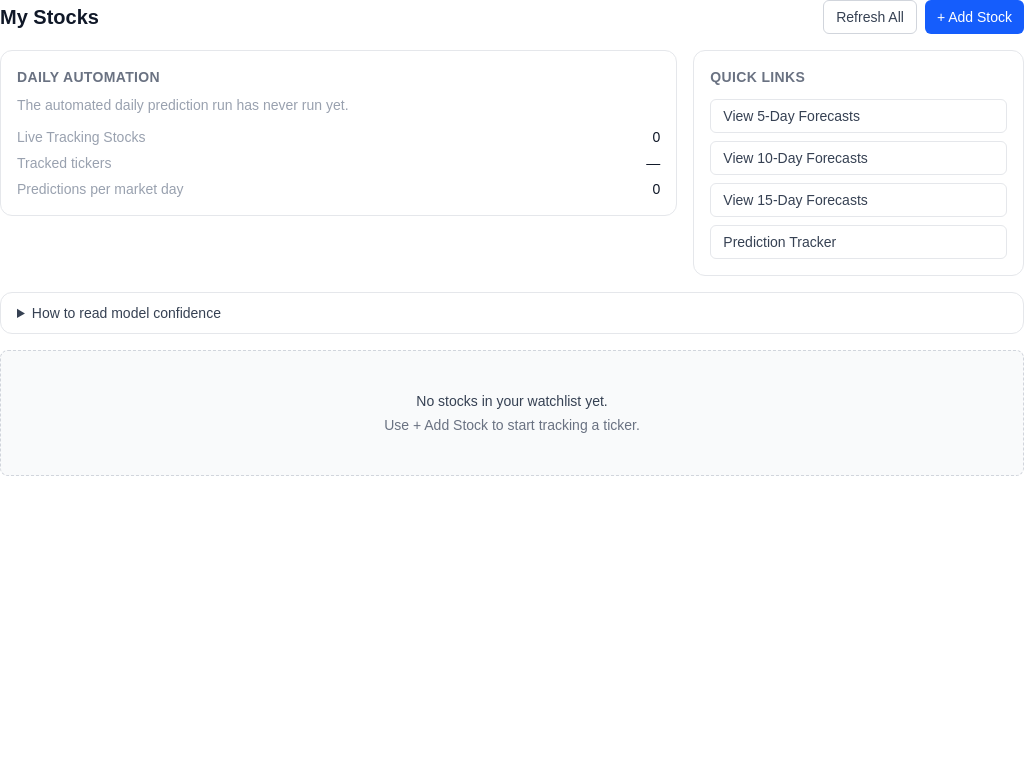
DashboardPage › shows a clear error and does not add the stock when the ticker is invalid
The image size is (1024, 768).
Expected: the element with test id "empty-state" is shown, [0,350,1023,476]
Click the button "+ Add Stock" at (974, 17), box [925,0,1023,34]
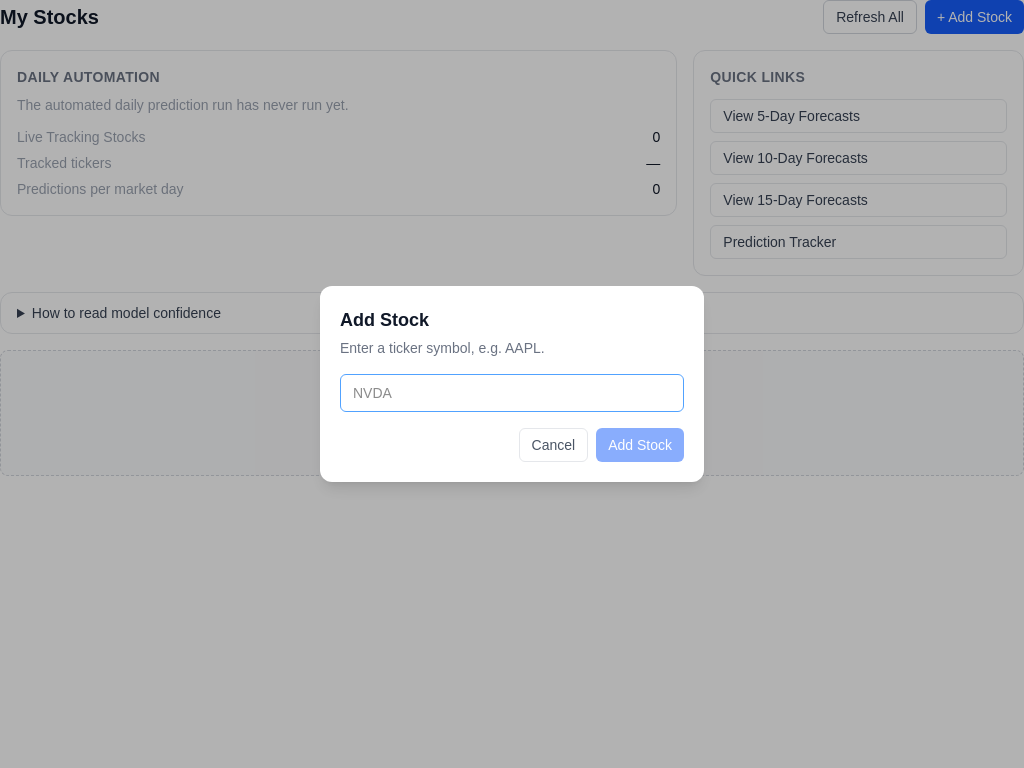
Type "zzzzzz" into the field named "Ticker symbol" at (512, 393), box [340,374,684,412]
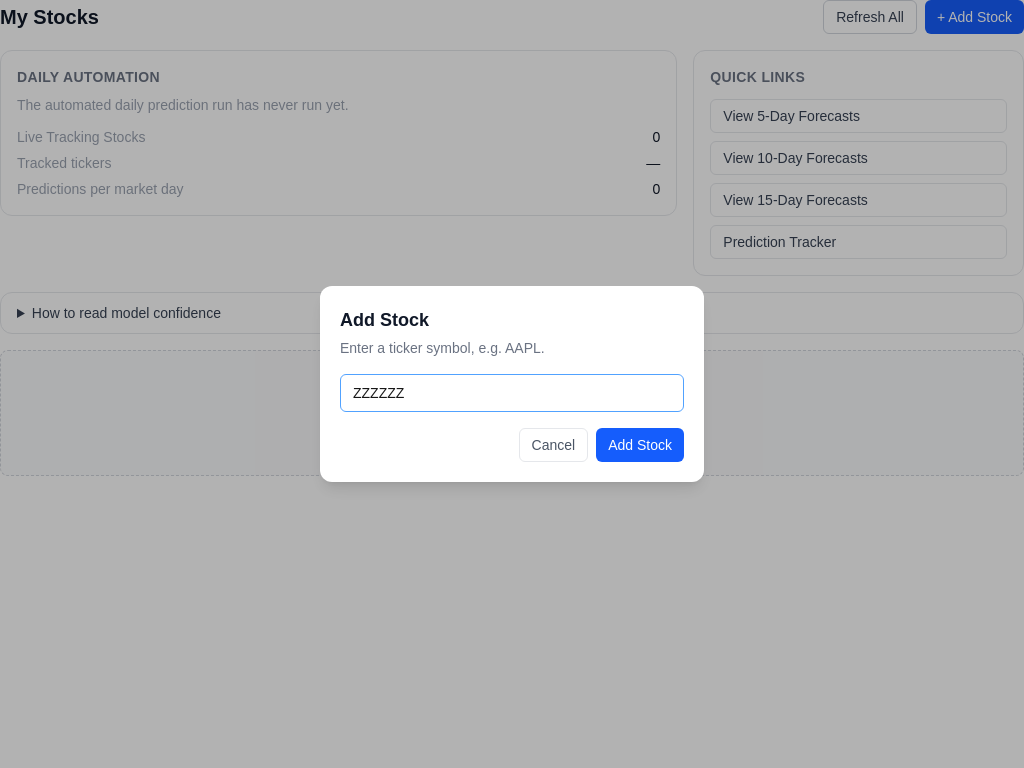
Click the button "Add Stock" at (640, 445), box [596,428,684,462]
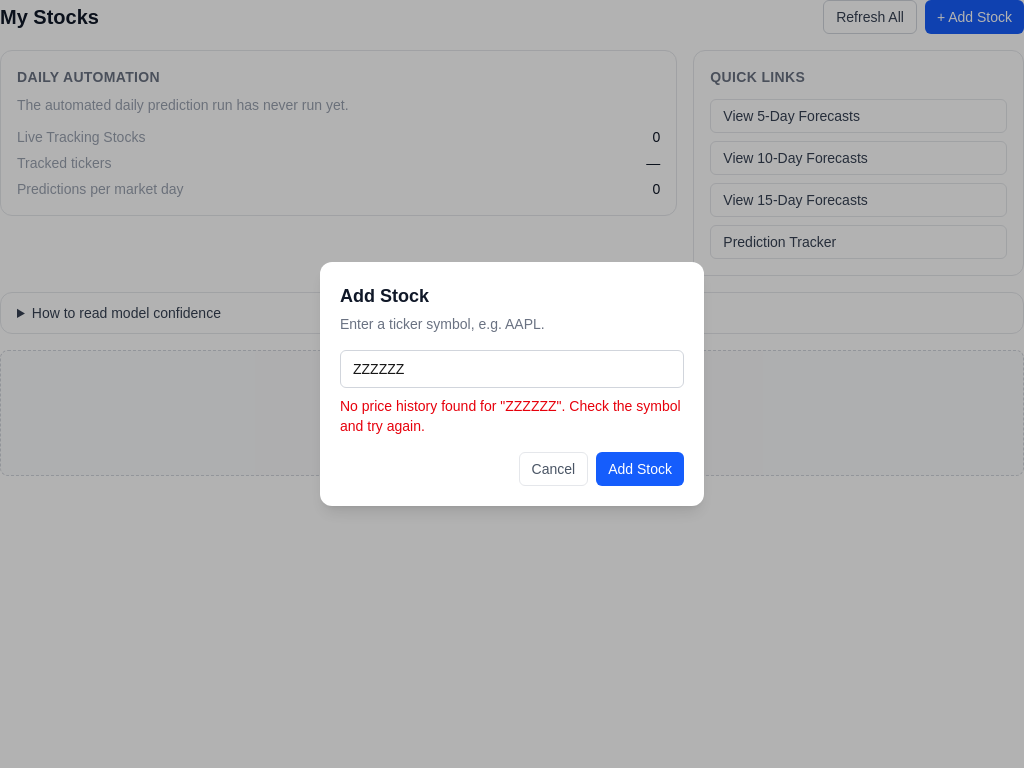
Now the message shows "No price history found", box [340,398,681,434]
